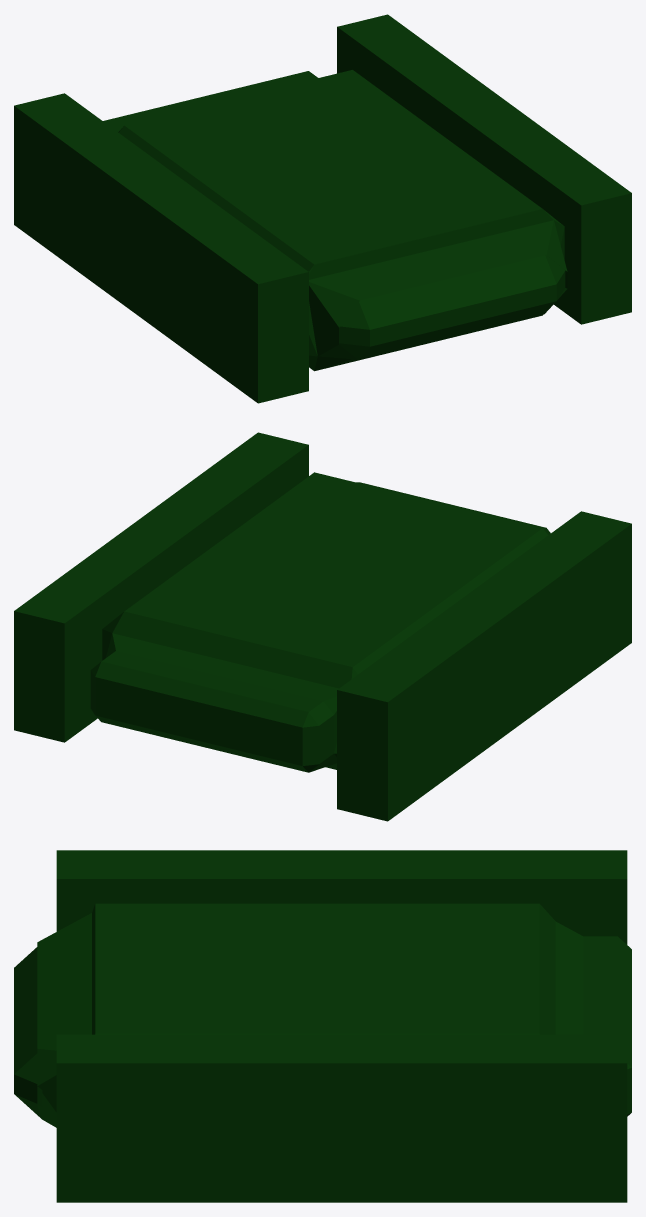
Rendered from tank_body_1.obj.
3 renders of one model, top to bottom at view 1: azimuth 30°, elevation 25°; view 2: azimuth 150°, elevation 25°; view 3: azimuth 270°, elevation 25°, orthographic. The views are drawn at different scales.
Parts seen in each view (by area): view 1: Body; view 2: Body; view 3: Body.
Boxes of the visible parts, x1=… form: Body: x1=14, y1=14, x2=631, y2=403; Body: x1=14, y1=432, x2=631, y2=821; Body: x1=14, y1=850, x2=631, y2=1202.
Bounding box in the file's own units: 7.34 × 2.24 × 8.99.
